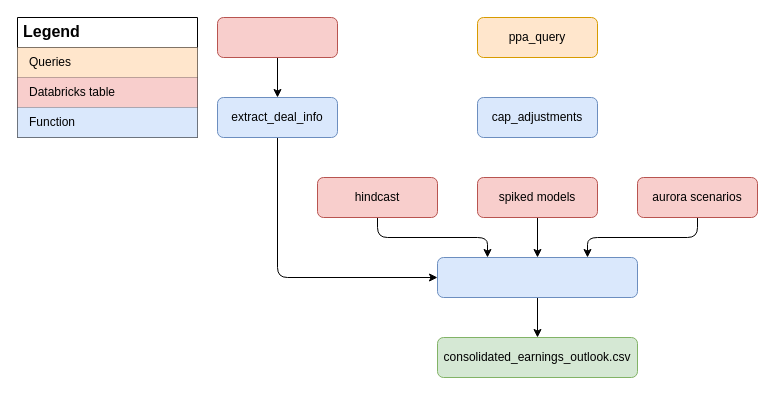
Image size: 775x395. Some labels were removed from this diagram. Here are the shapes that lost their labels. From the top down, the centre of each, then its label:
[277,37]: sim tables
[537,277]: clean_and_aggregate_earnings
